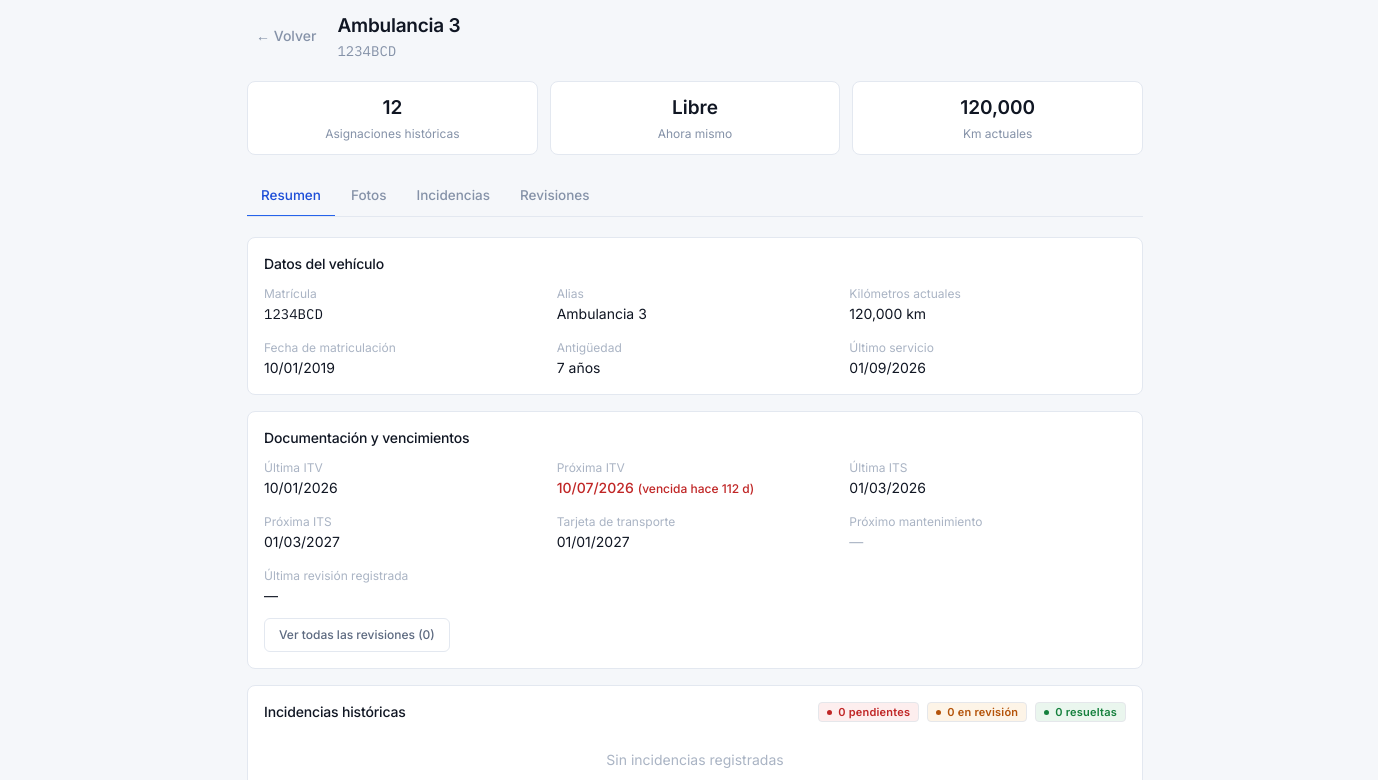
Scenario: VehicleHistory · navegación › «← Volver» vuelve a la pantalla de donde se vino, no siempre al listado
Expected: the heading "Ambulancia 3" is shown, [337,12,460,40]
Click the button "← Volver": click(286, 36) [247,19,325,53]
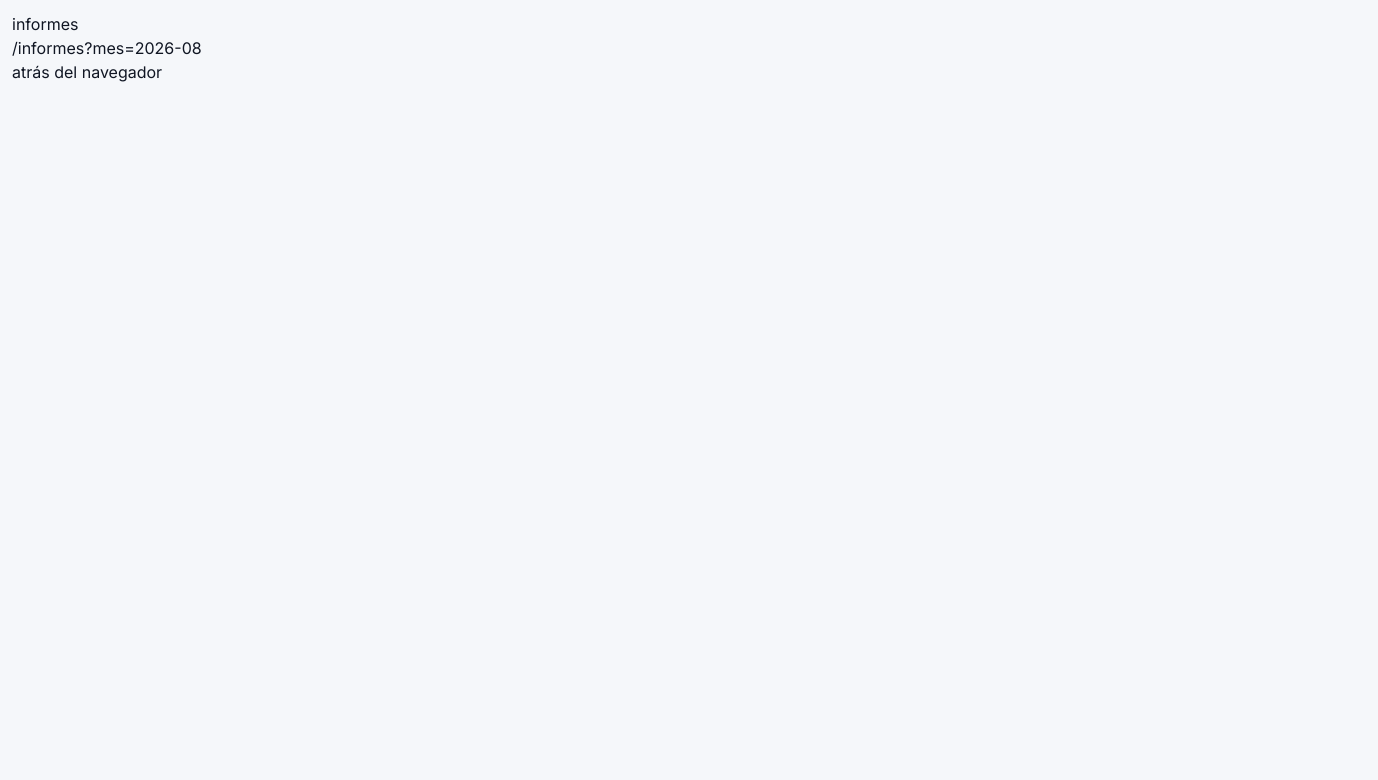
Now the text with test id "donde" reads "/informes?mes=2026-08", box [12,38,202,58]
